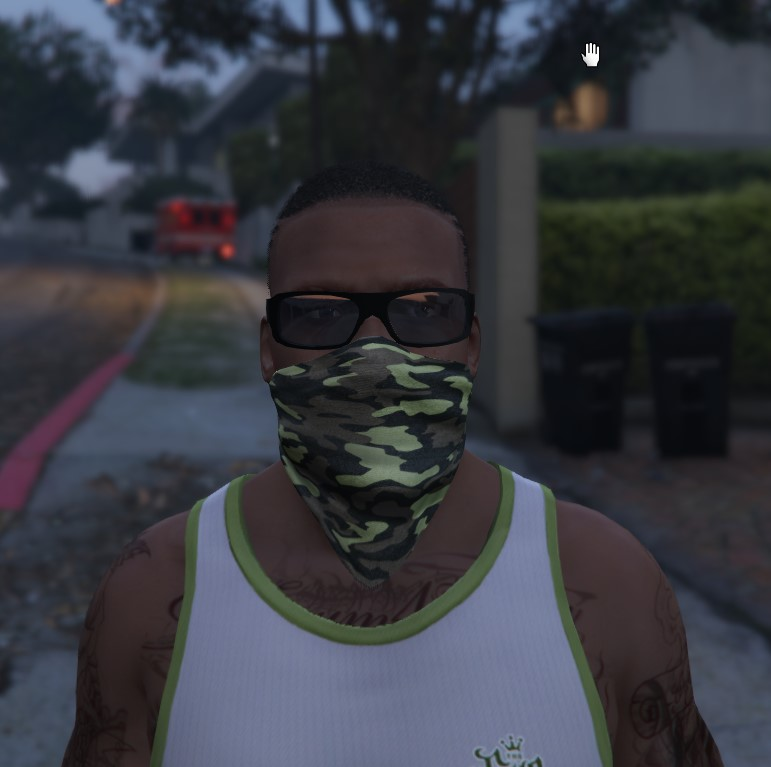face_with_mask: (253, 175, 492, 521)
